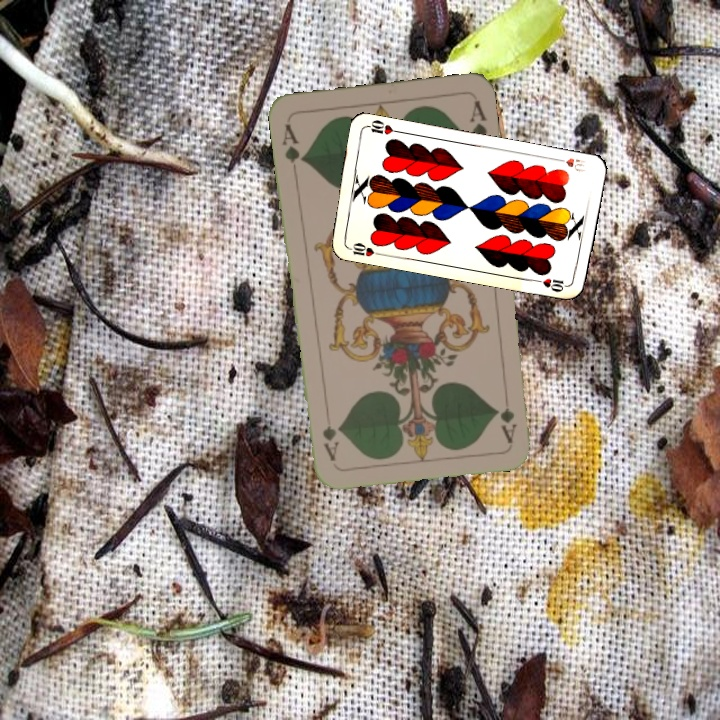GA: (278, 120, 307, 177), (496, 385, 520, 445)
H10: (343, 239, 383, 259), (551, 154, 588, 174)
